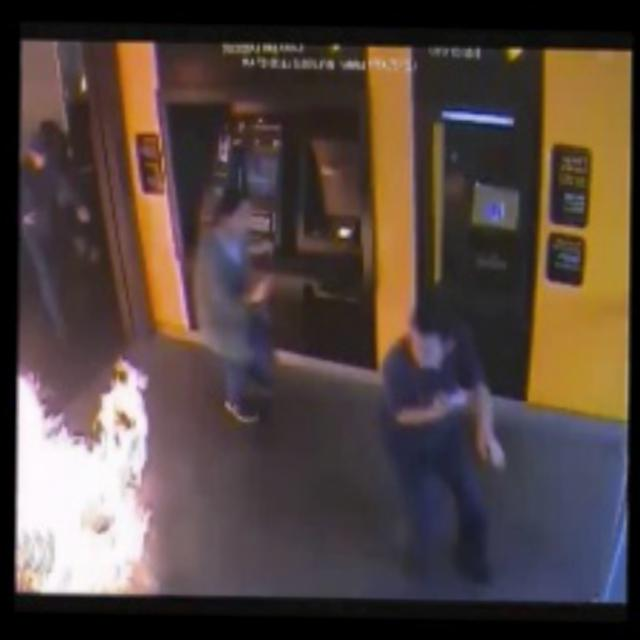fire: (98, 364, 154, 596), (36, 443, 99, 592), (15, 374, 40, 586)
